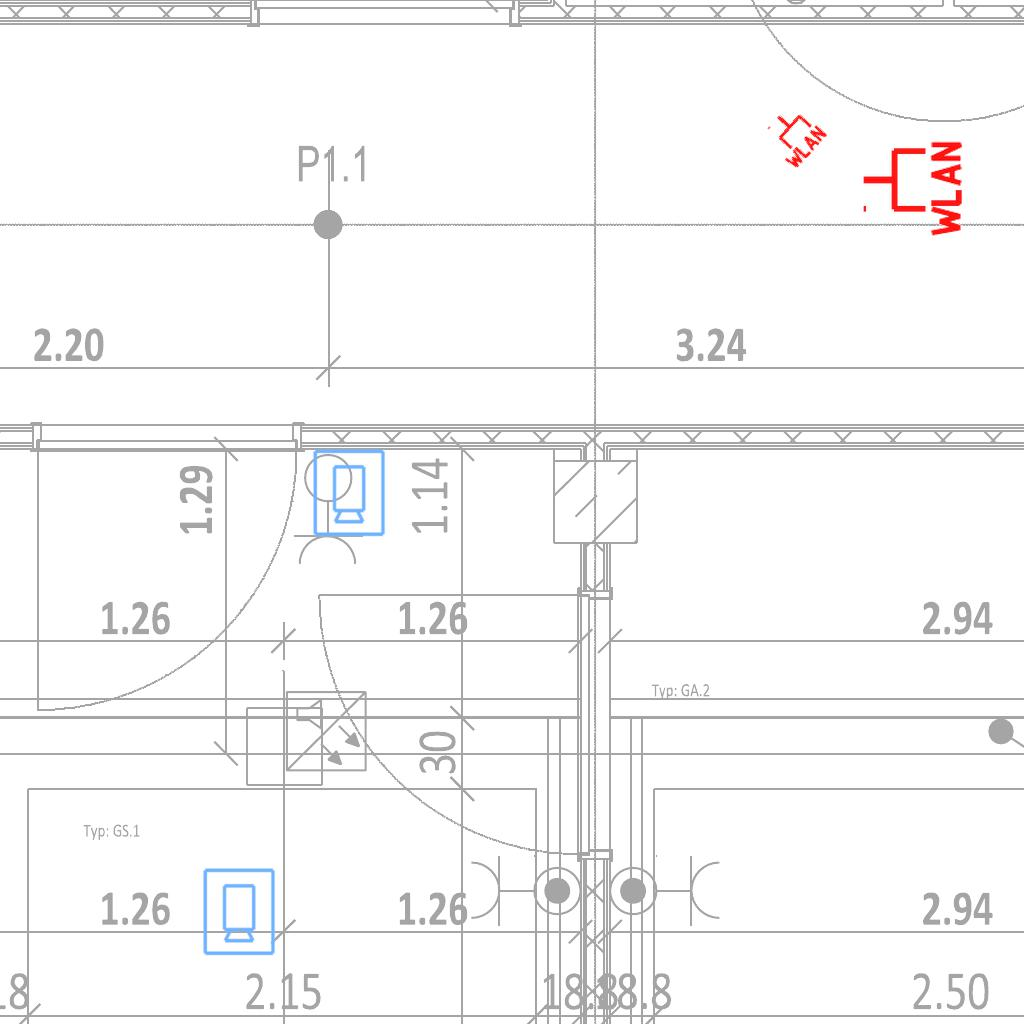KFO_Kamera_mit_Festobjektiv: (200, 866, 277, 957), (310, 447, 387, 538)
WLAN: (859, 137, 964, 241), (756, 99, 830, 173)
